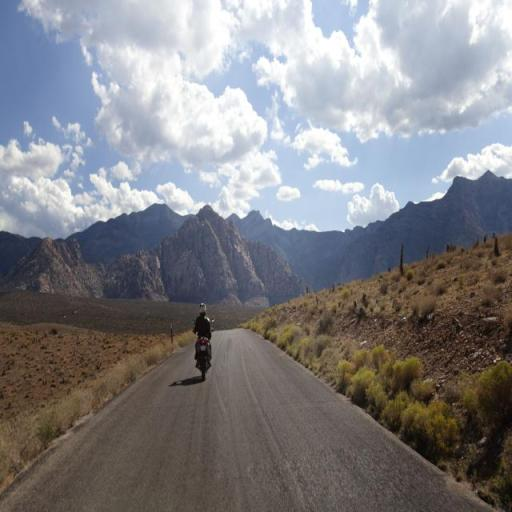Helmet: (190, 300, 214, 322)
Motor: (190, 332, 218, 382)
